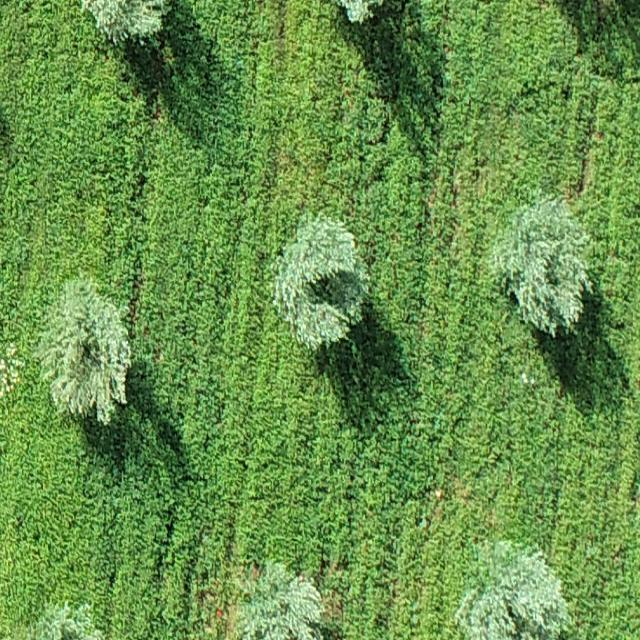trees: (34, 280, 131, 425), (493, 197, 593, 336), (274, 216, 370, 349), (456, 542, 572, 640), (240, 564, 324, 640), (81, 1, 163, 43), (27, 603, 102, 640), (338, 1, 384, 22)
